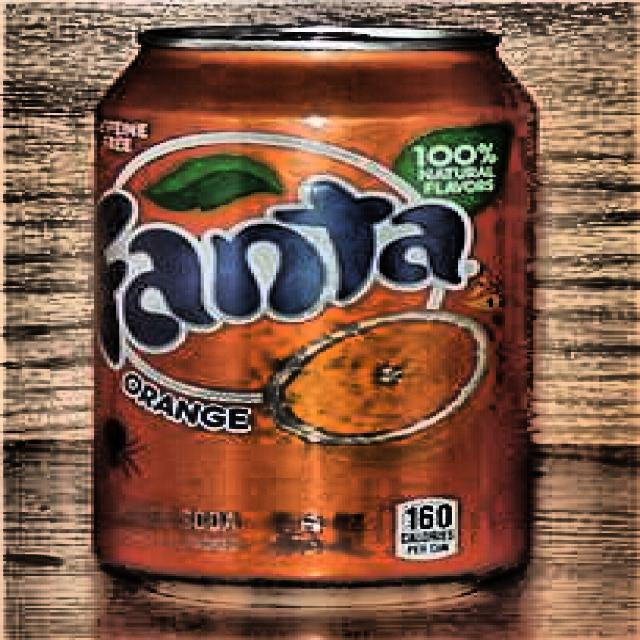Cans: (76, 10, 560, 613)
